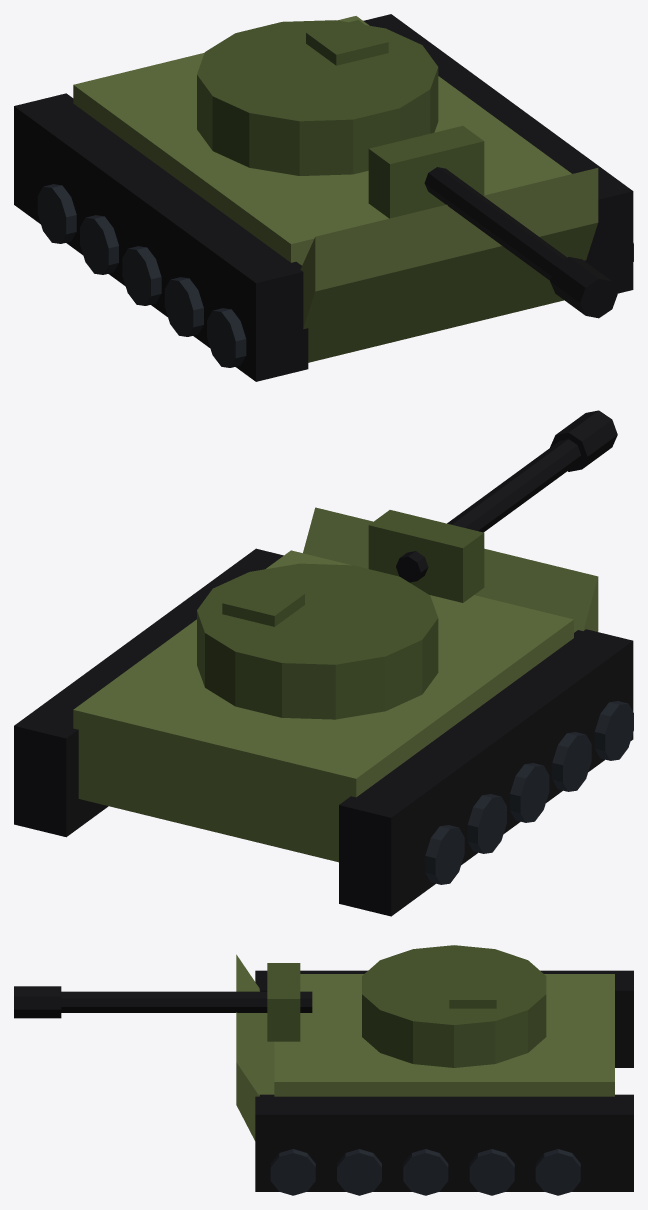
File: tank.obj
The picture shows the model from 3 angles, top to bottom: view 1: azimuth 30°, elevation 25°; view 2: azimuth 150°, elevation 25°; view 3: azimuth 270°, elevation 25°; orthographic projection. The views are drawn at different scales.
Parts seen in each view (by area): view 1: track_l, glacis, turret, hull, roadwheel, track_r, mantlet, barrel, muzzle, hatch; view 2: hull, track_l, turret, track_r, roadwheel, glacis, mantlet, barrel, hatch, muzzle; view 3: track_r, hull, turret, roadwheel, barrel, glacis, mantlet, track_l, muzzle, hatch.
Part boxes in pixels (<box>): track_l: <box>14,93,308,381</box>; glacis: <box>300,168,598,362</box>; turret: <box>197,20,438,175</box>; hull: <box>73,16,571,265</box>; roadwheel: <box>37,184,633,367</box>; track_r: <box>363,14,633,293</box>; mantlet: <box>368,126,484,218</box>; barrel: <box>424,167,566,280</box>; muzzle: <box>550,257,617,318</box>; hatch: <box>306,20,388,65</box>; hull: <box>73,550,573,862</box>; track_l: <box>339,629,633,916</box>; turret: <box>197,563,438,719</box>; track_r: <box>14,548,283,837</box>; roadwheel: <box>425,701,633,884</box>; glacis: <box>303,507,598,632</box>; mantlet: <box>368,510,484,602</box>; barrel: <box>396,439,581,582</box>; hatch: <box>222,581,304,626</box>; muzzle: <box>550,410,617,471</box>; track_r: <box>255,1094,633,1191</box>; hull: <box>274,974,614,1096</box>; turret: <box>362,945,546,1067</box>; roadwheel: <box>270,1149,580,1195</box>; barrel: <box>61,991,312,1012</box>; glacis: <box>236,954,274,1140</box>; mantlet: <box>267,963,300,1041</box>; track_l: <box>255,970,633,1067</box>; muzzle: <box>14,986,61,1018</box>; hatch: <box>449,980,496,1008</box>.
Bounding box in the file's own units: 3.8 × 1.75 × 6.55.
